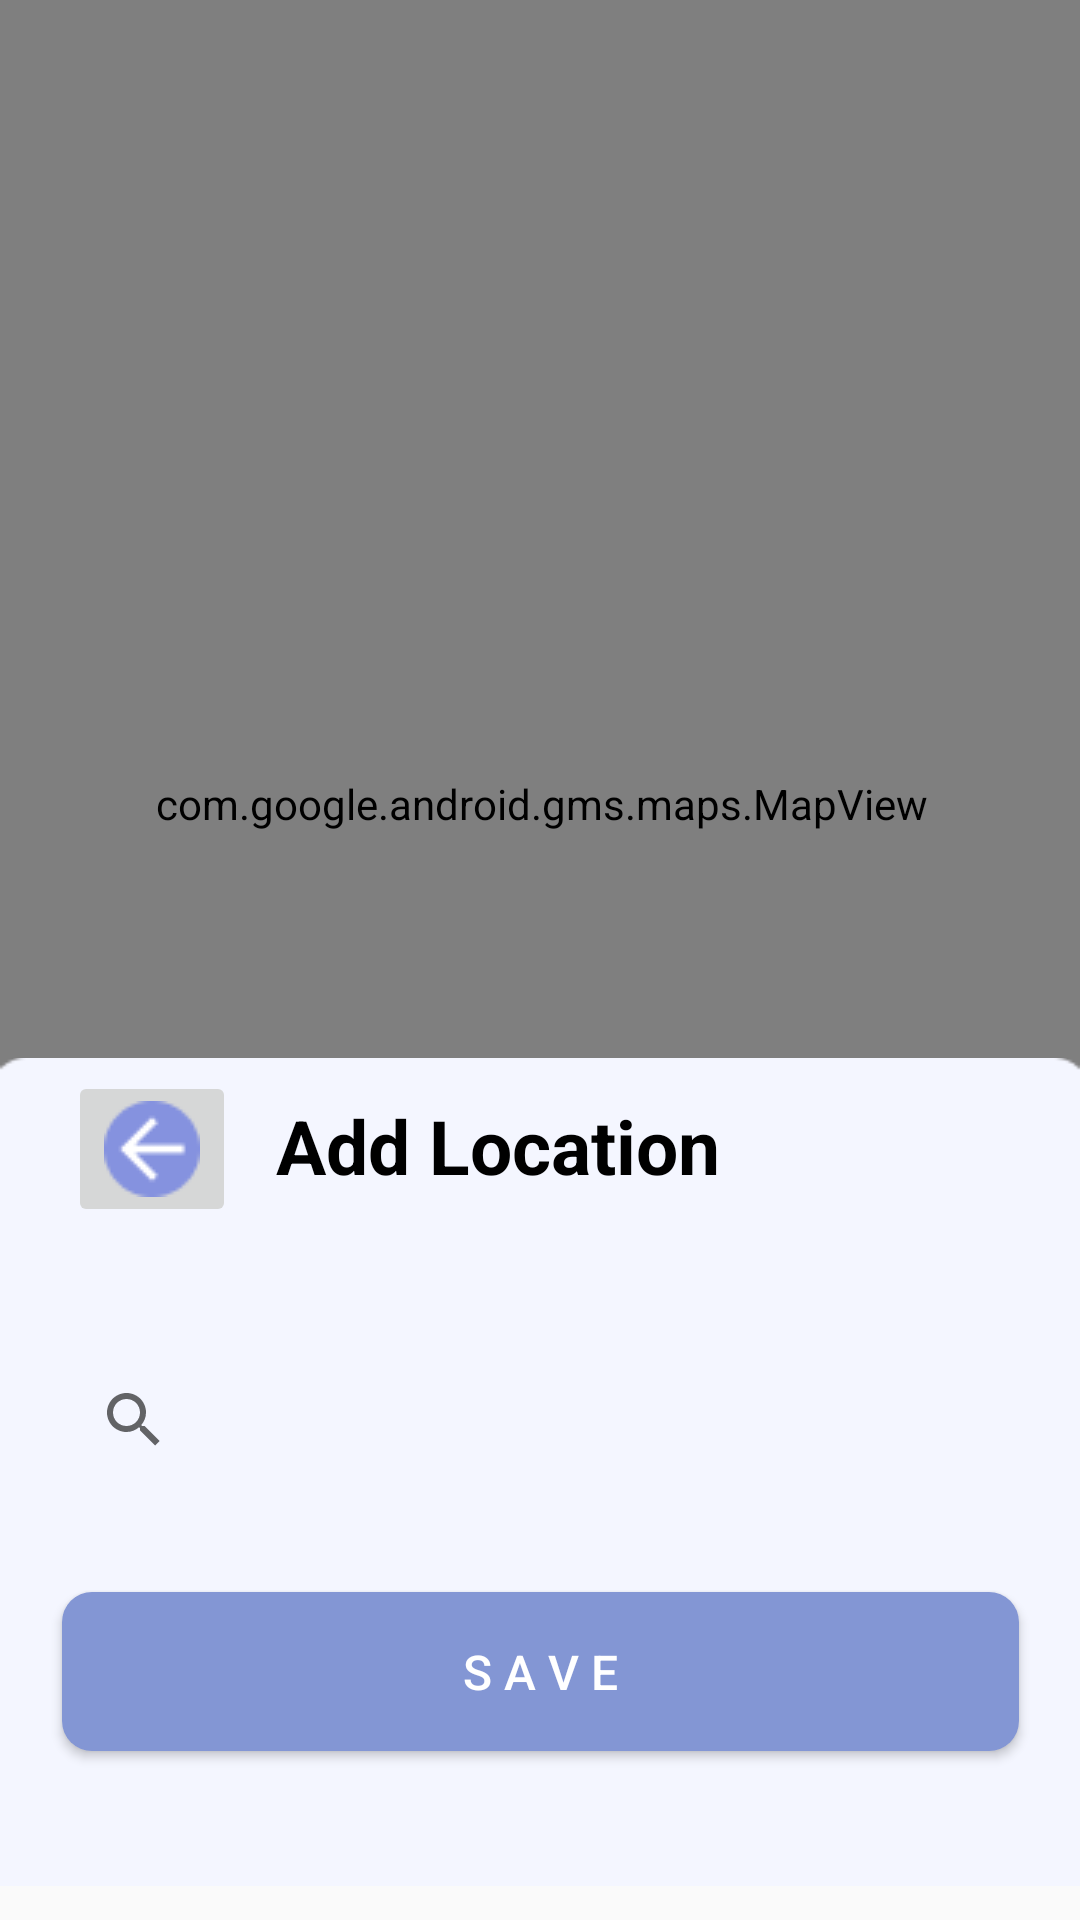

Point at icon controls on the screen. Image size 1080px x 1920px, points as [x,y].
backungu: [152,1149]
